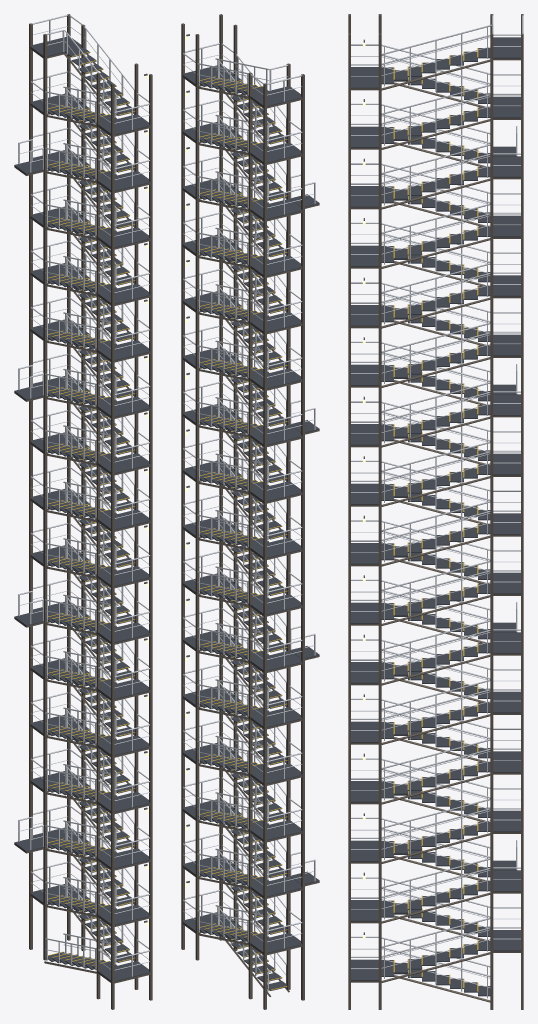
The picture shows the model from 3 angles, left to right: view 1: azimuth 30°, elevation 25°; view 2: azimuth 210°, elevation 25°; view 3: azimuth 270°, elevation 25°; orthographic projection. The views are drawn at different scales.
Parts seen in each view (by area): view 1: vertical_stairs.lod0; view 2: vertical_stairs.lod0; view 3: vertical_stairs.lod0.
Boxes of the visible parts, x1,y1,x2,y2 form: vertical_stairs.lod0: [14, 14, 152, 1009]; vertical_stairs.lod0: [181, 14, 319, 1009]; vertical_stairs.lod0: [348, 14, 523, 1009].
Size of the model in its own units: 3.08 by 44.42 by 7.22.
